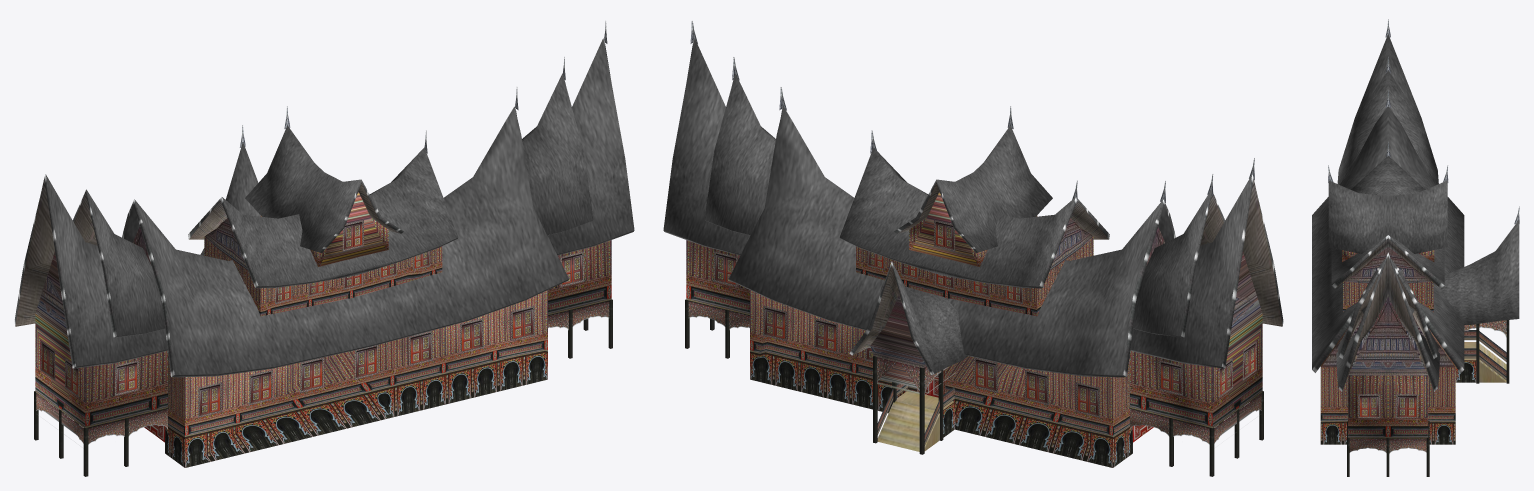
File: rumah-gadang.glb
3 renders of one model, left to right at view 1: azimuth 30°, elevation 25°; view 2: azimuth 150°, elevation 25°; view 3: azimuth 270°, elevation 25°, orthographic. The views are drawn at different scales.
Parts seen in each view (by area): view 1: Plane_rumah gadang sumbar_0; view 2: Plane_rumah gadang sumbar_0; view 3: Plane_rumah gadang sumbar_0.
Part boxes in pixels (x1,y1,x2,y2): Plane_rumah gadang sumbar_0: (14, 21, 634, 476); Plane_rumah gadang sumbar_0: (663, 21, 1283, 476); Plane_rumah gadang sumbar_0: (1312, 19, 1519, 476).
Bounding box in the file's own units: 35.07 × 18.49 × 13.96.
Materials: 1 (1 with a texture image).
